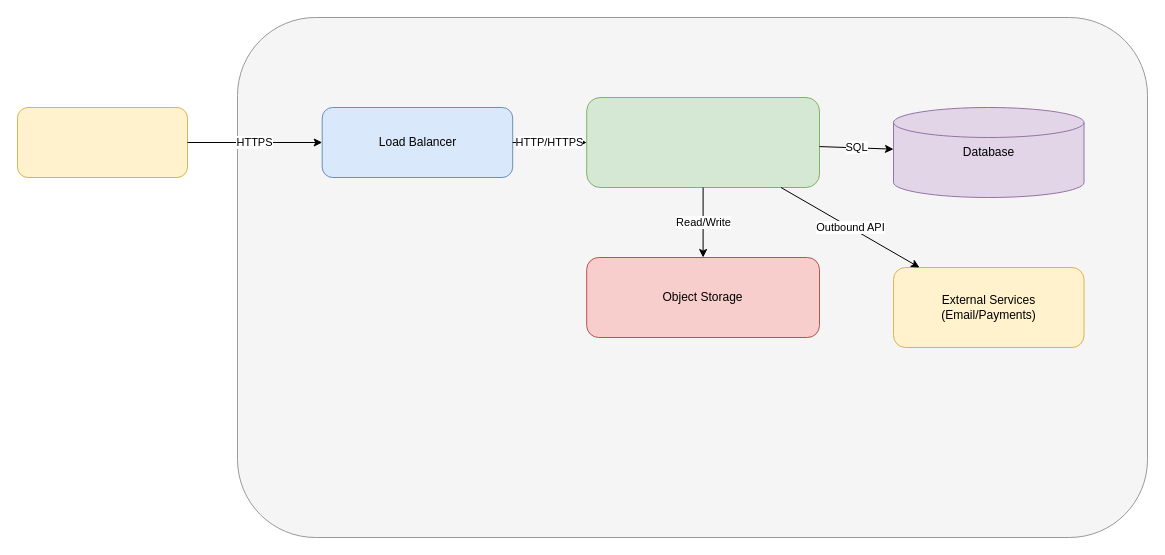
Image size: 1165x555. Some labels were removed from this diagram. Each missing label, with the centre of its shape:
"App Server (Web/API)" belongs at [703,142].
"Client (Browser)" belongs at [102,142].
